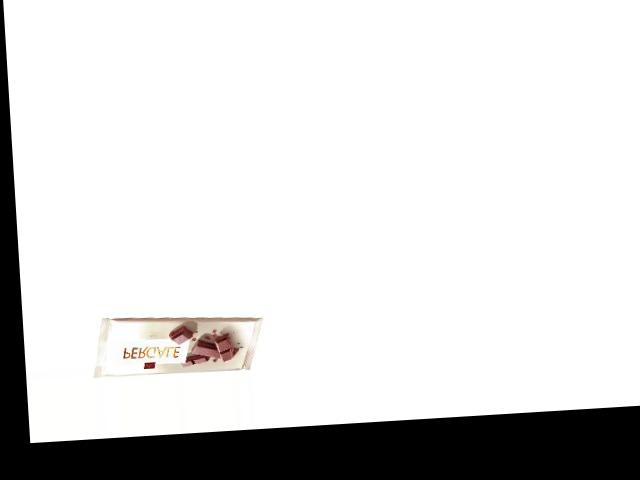chocolate: (88, 310, 269, 379)
